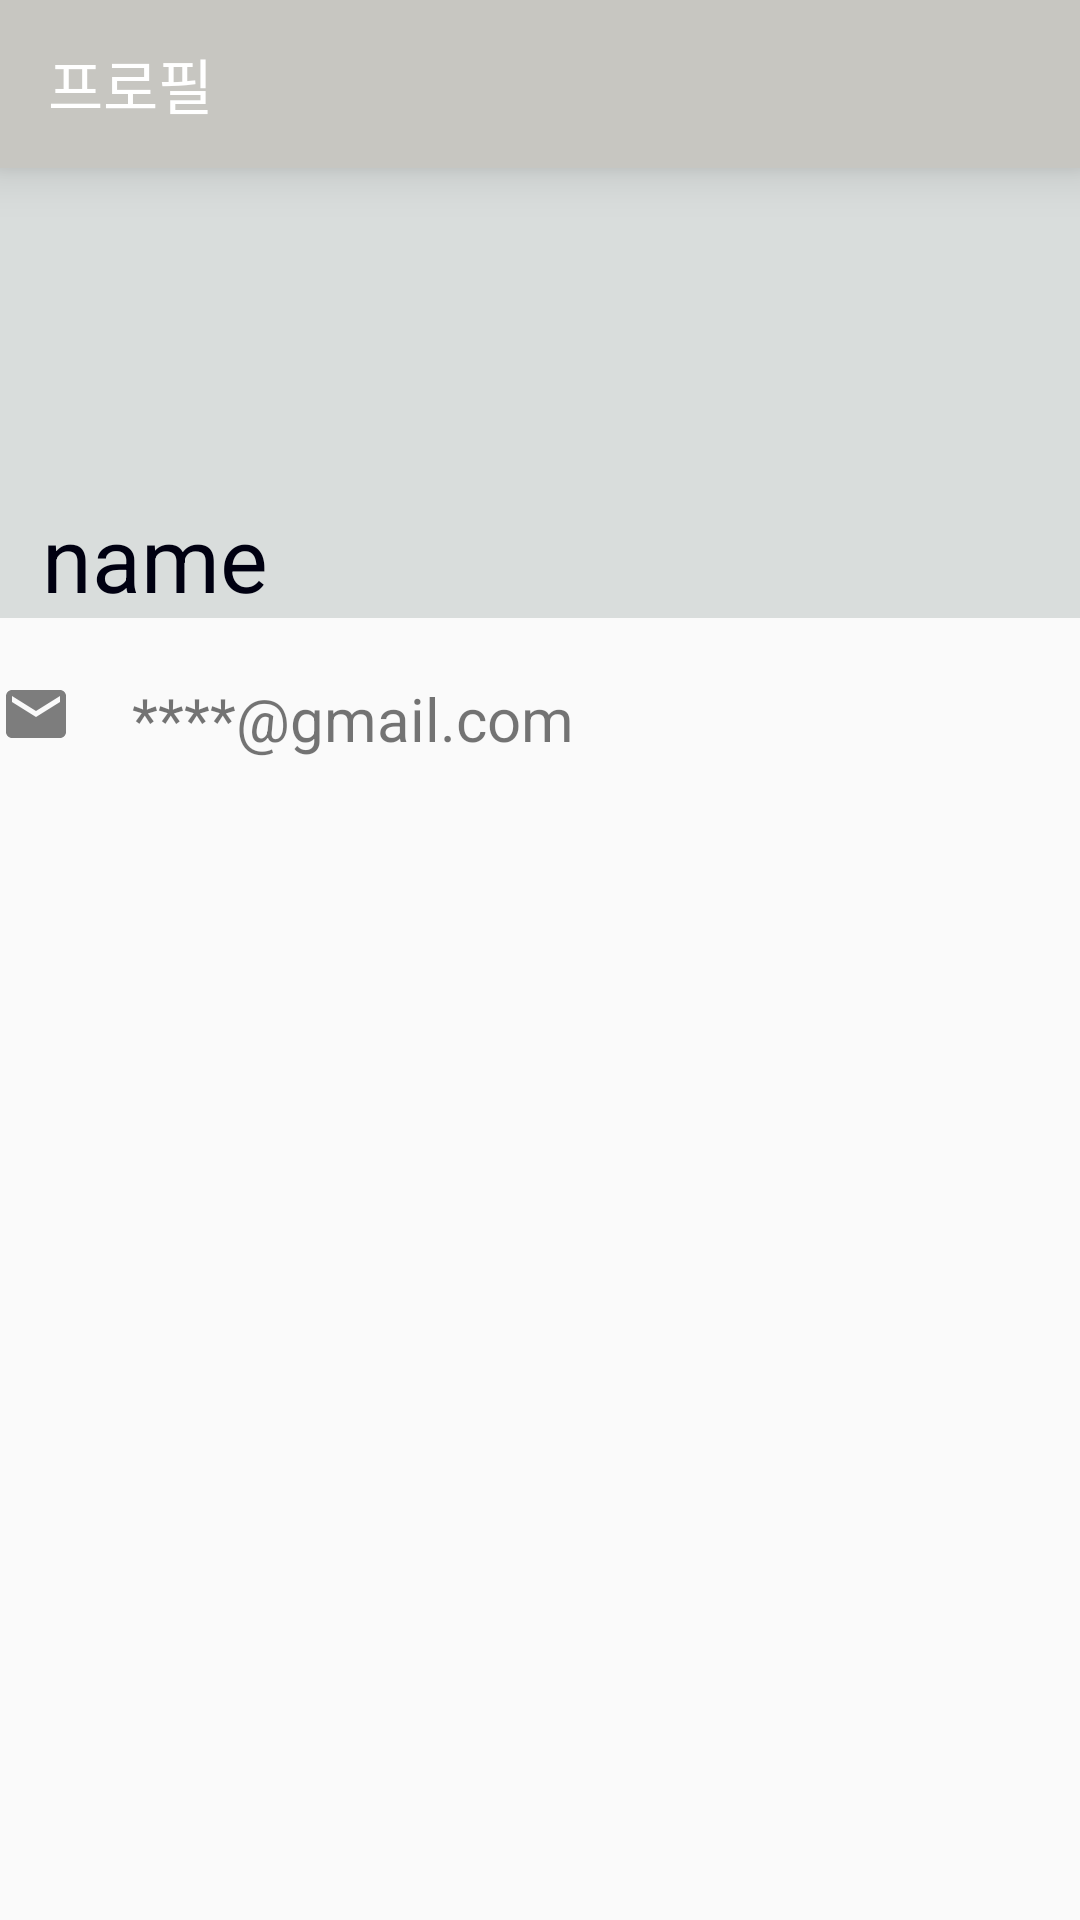

Icons on this 1080x1920 Android screen, each with its box as (x1, y1, x2, y2):
email: (6, 690, 66, 738)
